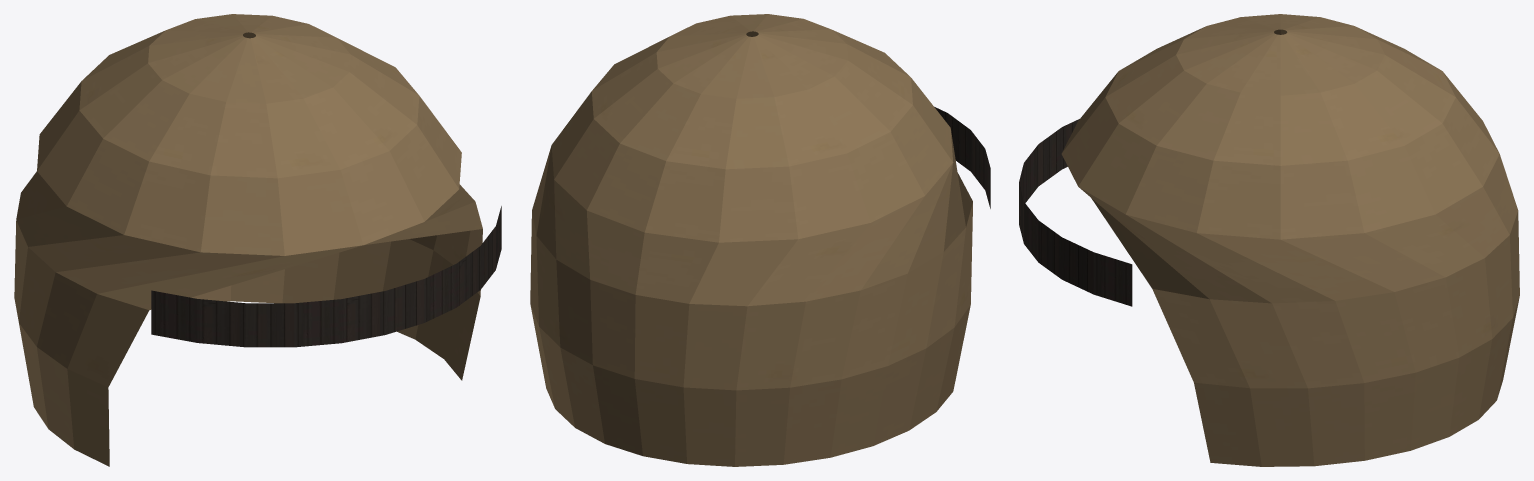
Rendered from eq_present_2_head.glb.
3 views of the same model, side by side, from view 1: azimuth 30°, elevation 25°; view 2: azimuth 150°, elevation 25°; view 3: azimuth 270°, elevation 25° (orthographic). The views are drawn at different scales.
Parts seen in each view (by area): view 1: eq_present_2_head; view 2: eq_present_2_head; view 3: eq_present_2_head.
Part boxes in pixels (box(x1,y1,x2,y2)): eq_present_2_head: box(14, 14, 501, 466); eq_present_2_head: box(530, 14, 990, 466); eq_present_2_head: box(1019, 14, 1519, 466).
Size of the model in its own units: 0.2934 by 0.2558 by 0.3338.
Materials: 2 (2 with a texture image).
